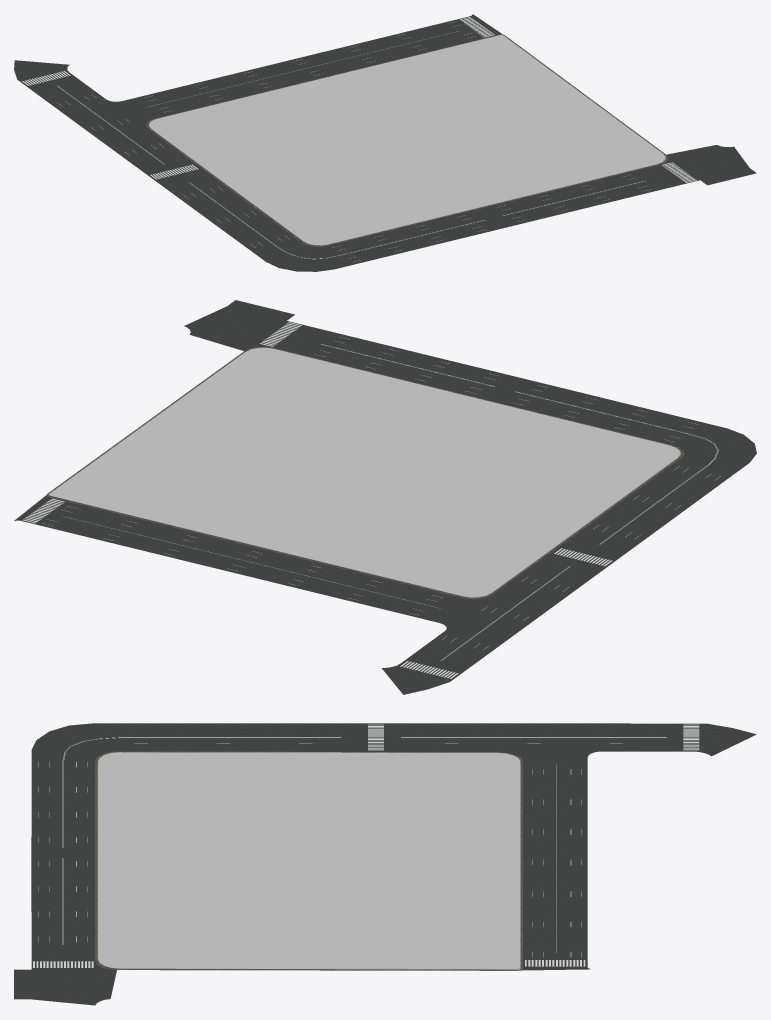
Rendered from Island_Area_04.fbx.
3 views of the same model, one above another, from view 1: azimuth 30°, elevation 25°; view 2: azimuth 150°, elevation 25°; view 3: azimuth 270°, elevation 25° (orthographic). The views are drawn at different scales.
Parts seen in each view (by area): view 1: Island_Area_04, Terrain_NY_Asphalt.025, Terrain_NY_Asphalt.021, Terrain_NY_Marking.021, Terrain_NY_Marking.035, Terrain_NY_Marking.037, Terrain_NY_Marking.020; view 2: Island_Area_04, Terrain_NY_Asphalt.025, Terrain_NY_Asphalt.021, Terrain_NY_Marking.021, Terrain_NY_Marking.035; view 3: Island_Area_04, Terrain_NY_Asphalt.025, Terrain_NY_Asphalt.021, Terrain_NY_Marking.020, Terrain_NY_Marking.037, Terrain_NY_Marking.021, Terrain_NY_Marking.035.
Part boxes in pixels (left/top/right/bottom): Island_Area_04: left=146, top=34, right=668, bottom=246; Terrain_NY_Asphalt.025: left=14, top=14, right=501, bottom=207; Terrain_NY_Asphalt.021: left=192, top=145, right=756, bottom=271; Terrain_NY_Marking.021: left=144, top=17, right=494, bottom=112; Terrain_NY_Marking.035: left=497, top=162, right=696, bottom=221; Terrain_NY_Marking.037: left=150, top=164, right=322, bottom=259; Terrain_NY_Marking.020: left=22, top=71, right=164, bottom=164; Island_Area_04: left=45, top=346, right=684, bottom=599; Terrain_NY_Asphalt.025: left=14, top=496, right=659, bottom=694; Terrain_NY_Asphalt.021: left=184, top=300, right=756, bottom=528; Terrain_NY_Marking.021: left=22, top=498, right=442, bottom=615; Terrain_NY_Marking.035: left=260, top=322, right=498, bottom=393; Island_Area_04: left=95, top=751, right=522, bottom=970; Terrain_NY_Asphalt.025: left=276, top=723, right=756, bottom=970; Terrain_NY_Asphalt.021: left=14, top=723, right=290, bottom=1005; Terrain_NY_Marking.020: left=401, top=724, right=699, bottom=750; Terrain_NY_Marking.037: left=65, top=724, right=383, bottom=751; Terrain_NY_Marking.021: left=525, top=764, right=585, bottom=966; Terrain_NY_Marking.035: left=33, top=858, right=93, bottom=967.
Bounding box in the file's own units: 17260 × 15.87 × 19210.
